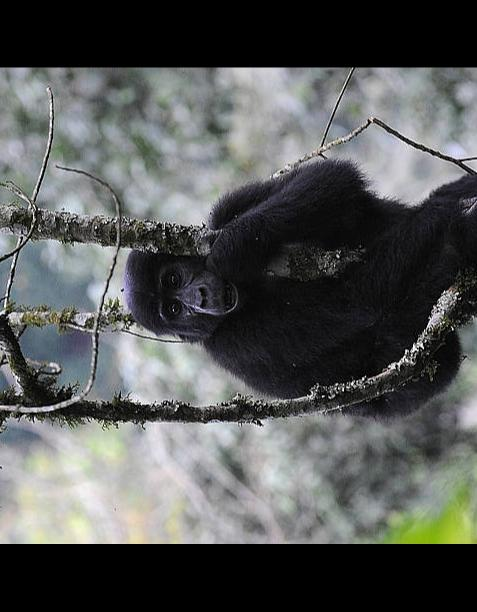goriile_montagne: (117, 159, 477, 404)
